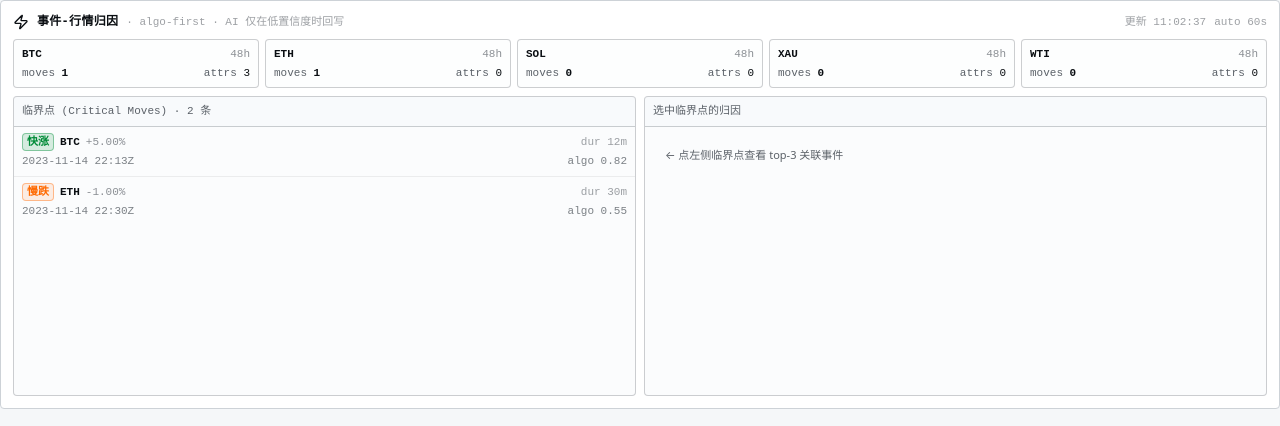
Test case: EventMarketAttribution v291 a11y › cancel button has type=button and aria-label mentioning move id
The image size is (1280, 426).
Step 1. Click the option "快涨 BTC +5.00% dur 12m 2023-11-14 22:13Z algo 0.82" → [38, 142], box [14,126,635,176]
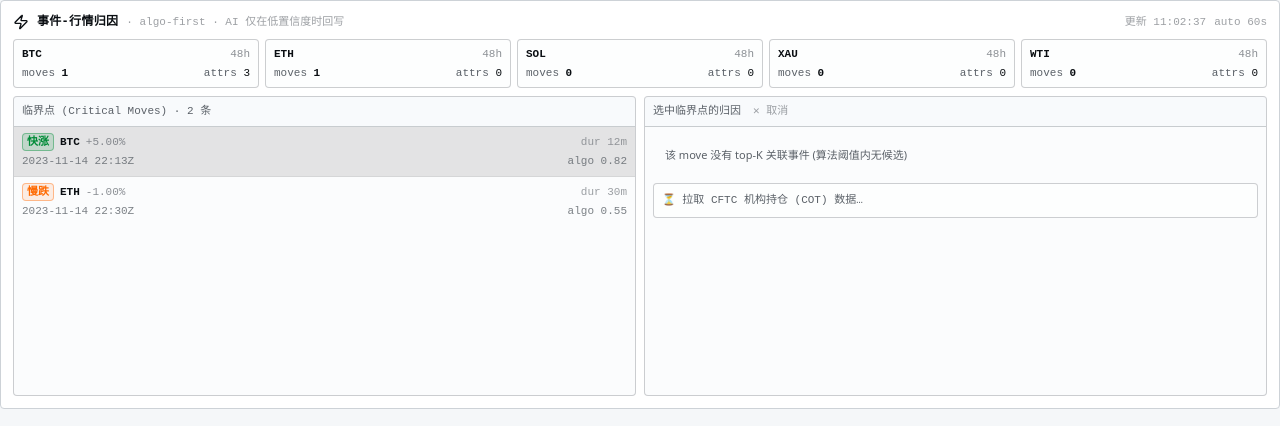
Check: the button with aria-label "取消选中临界点 #1" is shown, box [749,103,792,120]
